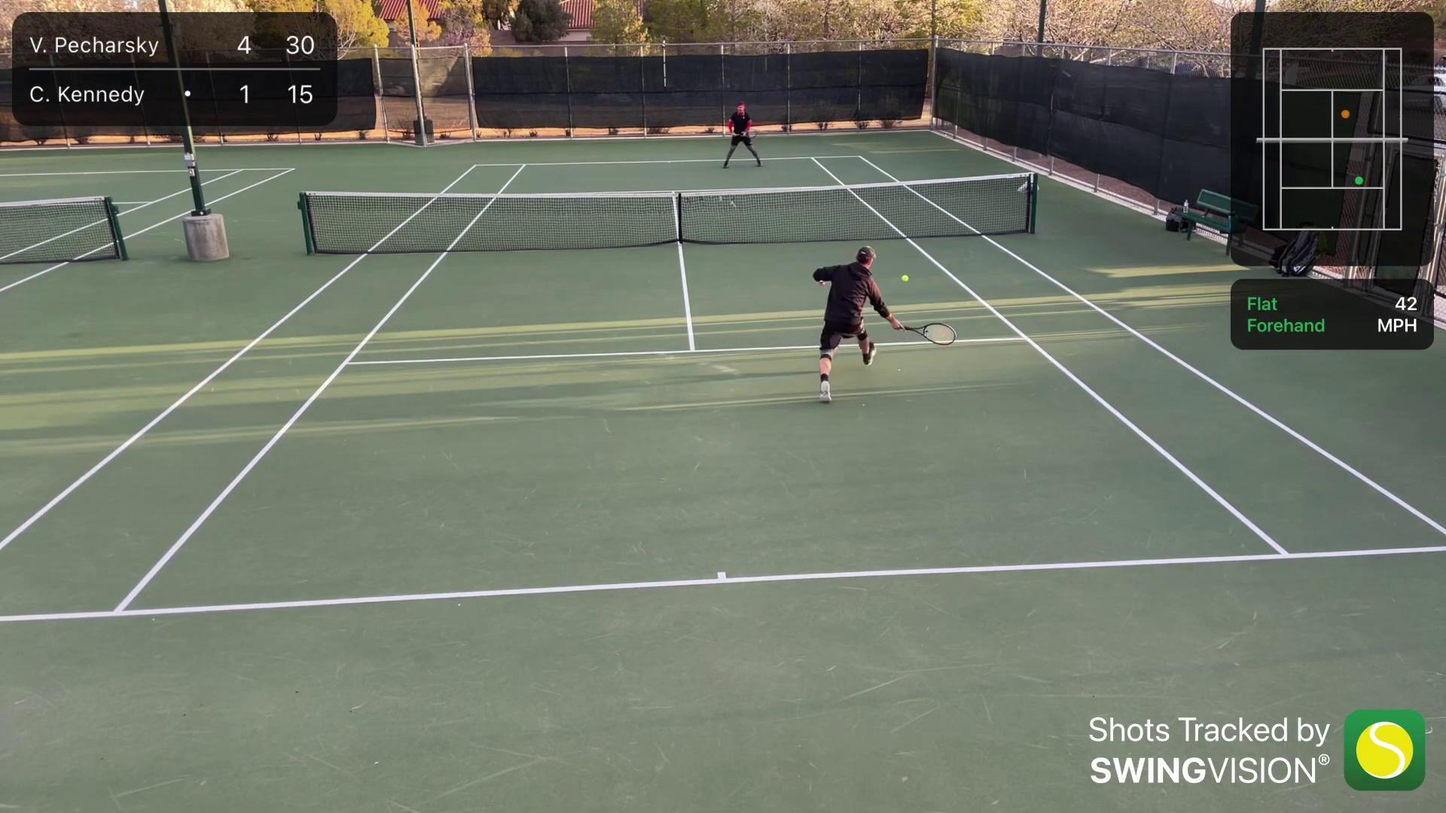ball: (900, 274, 910, 282)
